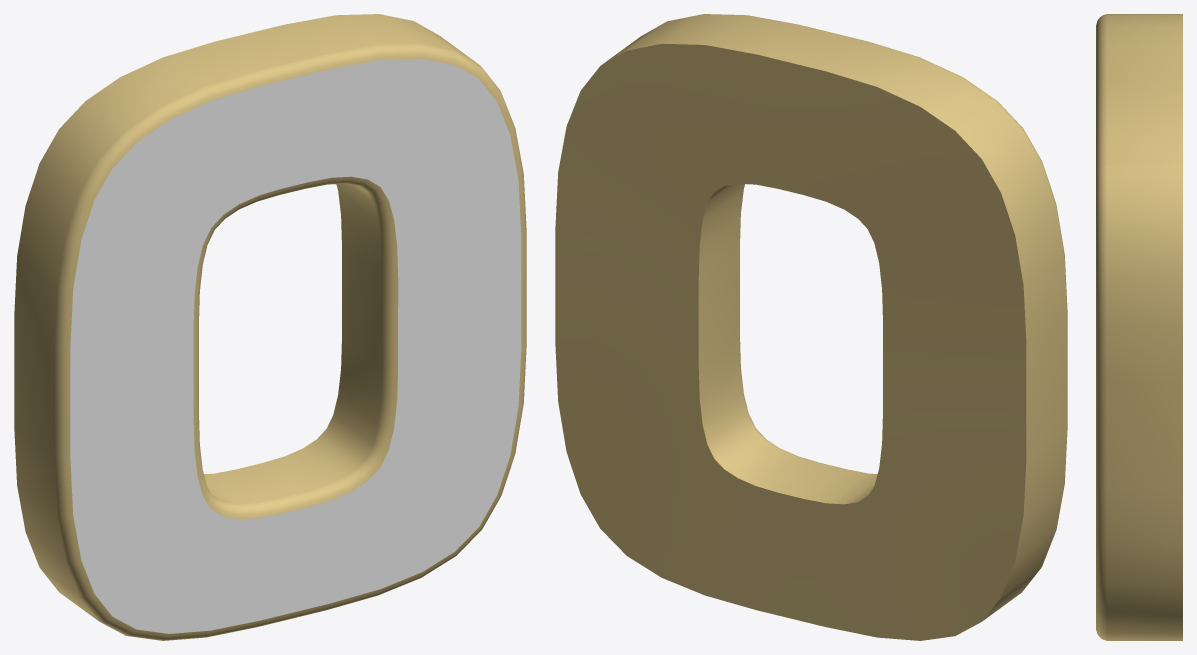
File: LettersLightUp02_O.FBX
3 views of the same model, side by side, from view 1: azimuth 30°, elevation 25°; view 2: azimuth 150°, elevation 25°; view 3: azimuth 270°, elevation 25° (orthographic). The views are drawn at different scales.
Parts seen in each view (by area): view 1: LettersLightUp02_O; view 2: LettersLightUp02_O; view 3: LettersLightUp02_O.
Part boxes in pixels (x1,y1,x2,y2): LettersLightUp02_O: (14,14,526,640); LettersLightUp02_O: (555,14,1067,640); LettersLightUp02_O: (1096,14,1182,640).
Size of what is drawn, in the model's own units: 0.5393 by 0.608 by 0.0912.
